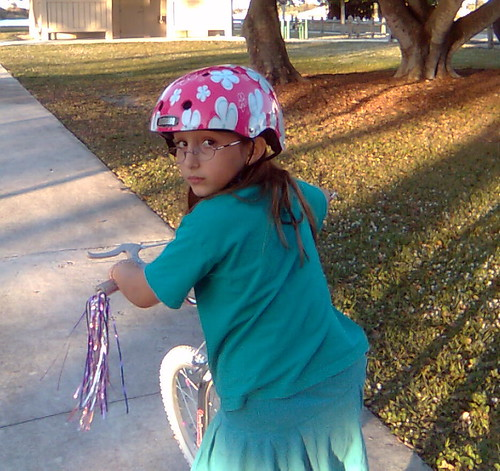helmet: (145, 48, 284, 135)
